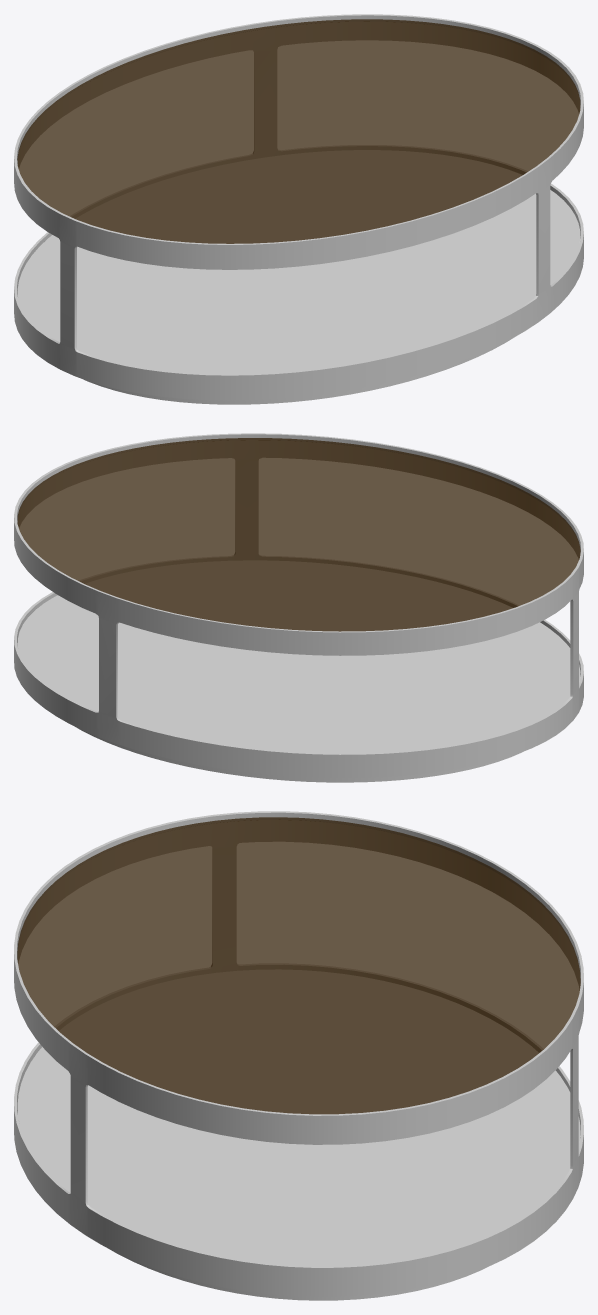
The model's file is CGT_Coffee-Table_61.glb.
The picture shows the model from 3 angles, top to bottom: view 1: azimuth 30°, elevation 25°; view 2: azimuth 150°, elevation 25°; view 3: azimuth 270°, elevation 25°; orthographic projection. The views are drawn at different scales.
Visible parts, largest first — view 1: Coffee-Table_61; view 2: Coffee-Table_61; view 3: Coffee-Table_61.
Boxes of the visible parts, x1,y1,x2,y2 form: Coffee-Table_61: (14,14,583,404); Coffee-Table_61: (14,433,583,782); Coffee-Table_61: (14,811,583,1300).
Bounding box in the file's own units: 1.28 × 0.3812 × 1.01.
